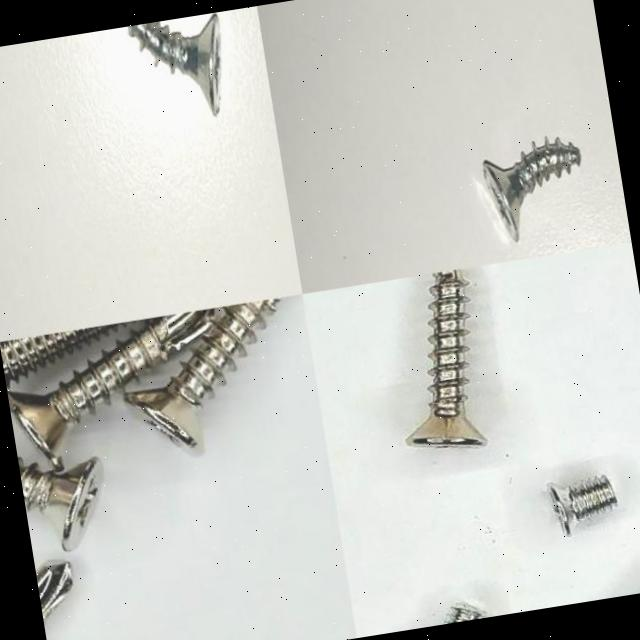Screw: (7, 308, 215, 469), (125, 297, 282, 456), (406, 269, 487, 447), (484, 138, 582, 243), (127, 15, 222, 117), (18, 457, 103, 551), (548, 475, 618, 537)
